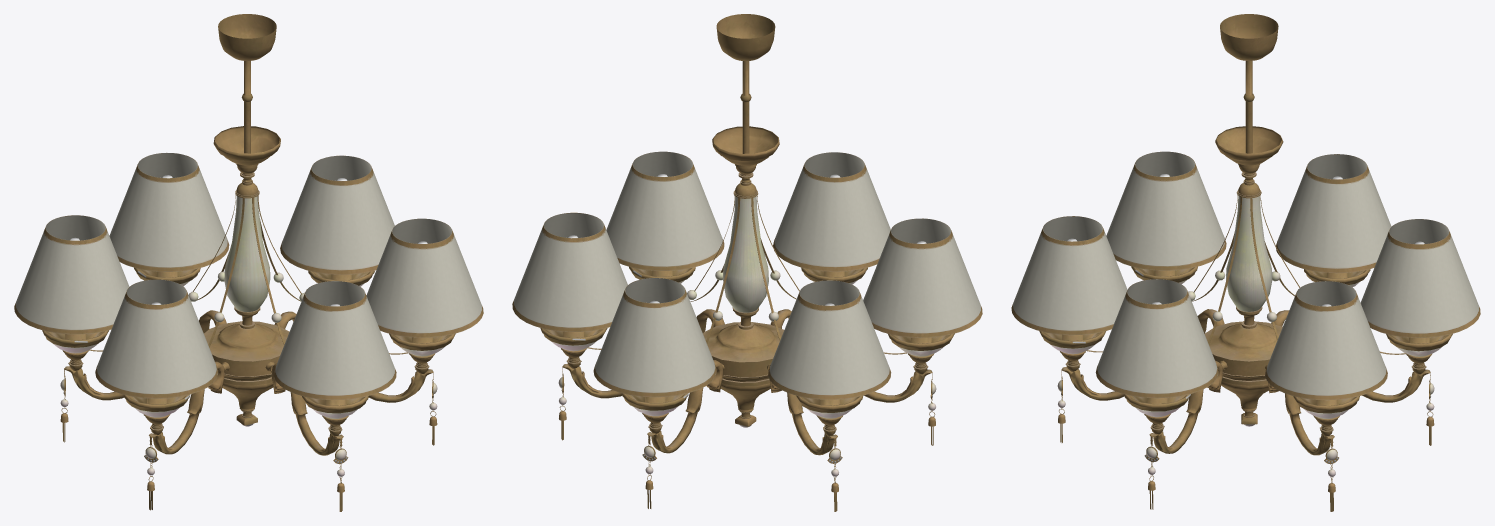
File: Chandelier_01.gltf
3 views of the same model, side by side, from view 1: azimuth 30°, elevation 25°; view 2: azimuth 150°, elevation 25°; view 3: azimuth 270°, elevation 25° (orthographic).
Parts seen in each view (by area): view 1: Chandelier_01; view 2: Chandelier_01; view 3: Chandelier_01.
Boxes of the visible parts, box(x1,y1,x2,y2) form: Chandelier_01: box(14, 14, 483, 511); Chandelier_01: box(512, 14, 982, 511); Chandelier_01: box(1011, 14, 1480, 511).
Size of the model in its own units: 0.7465 by 0.7983 by 0.8155.
2 materials, 1 textured.
